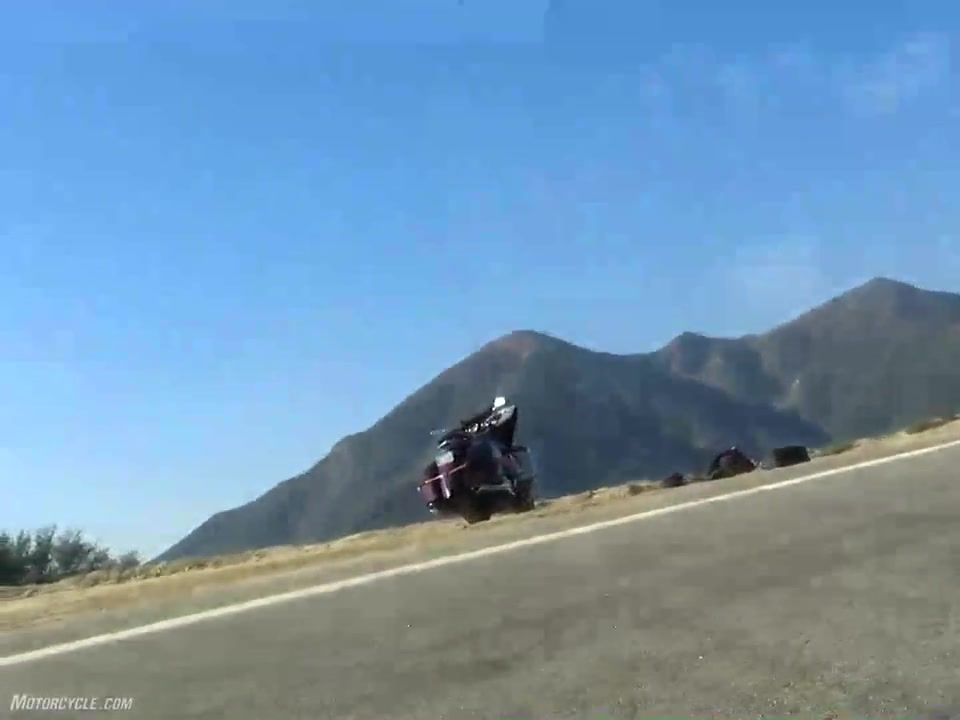motorbike: (418, 393, 540, 523)
